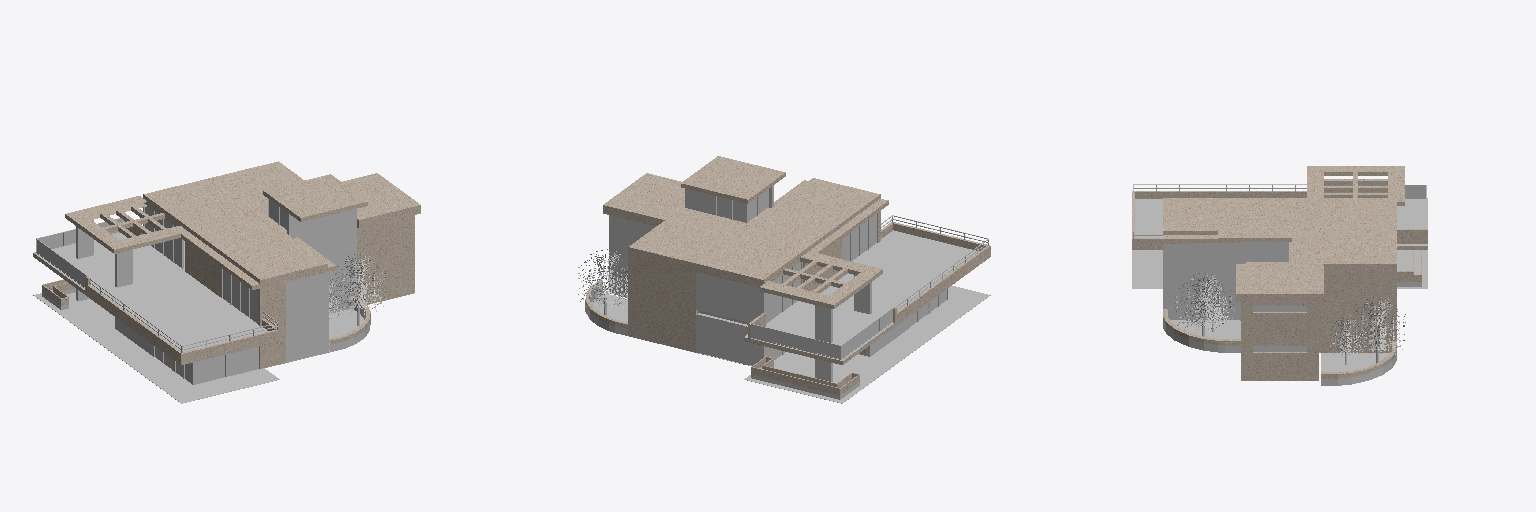
3 renders of one model, left to right at view 1: azimuth 30°, elevation 25°; view 2: azimuth 150°, elevation 25°; view 3: azimuth 270°, elevation 25°, orthographic.
Parts seen in each view (by area): view 1: copertura, parete_interna, pavimento_terrazza, RIVESTIMENTO, pavimento_esterno, vetro, pergola, cromato, pilastri, pannello_par, foglie, prato; view 2: copertura, vetro, pavimento_terrazza, parete_interna, pavimento_esterno, pergola, RIVESTIMENTO, cromato, pannello_par, pilastri, foglie; view 3: copertura, parete_interna, vetro, pergola, foglie, pavimento_terrazza, pavimento_esterno, RIVESTIMENTO, prato, cromato.
Part boxes in pixels (left/top/right/bottom): copertura: left=143, top=161, right=420, bottom=289; parete_interna: left=33, top=215, right=414, bottom=371; pavimento_terrazza: left=34, top=233, right=267, bottom=351; RIVESTIMENTO: left=42, top=209, right=370, bottom=362; pavimento_esterno: left=33, top=292, right=279, bottom=403; vetro: left=145, top=199, right=286, bottom=384; pergola: left=65, top=196, right=187, bottom=253; cromato: left=36, top=199, right=279, bottom=384; pilastri: left=76, top=220, right=132, bottom=301; pannello_par: left=37, top=219, right=124, bottom=286; foglie: left=329, top=254, right=385, bottom=320; prato: left=329, top=309, right=368, bottom=351; copertura: left=603, top=156, right=888, bottom=352; vetro: left=686, top=189, right=946, bottom=365; pavimento_terrazza: left=745, top=230, right=978, bottom=360; parete_interna: left=585, top=211, right=990, bottom=395; pavimento_esterno: left=744, top=286, right=990, bottom=403; pergola: left=760, top=251, right=882, bottom=308; RIVESTIMENTO: left=585, top=186, right=908, bottom=399; cromato: left=685, top=189, right=988, bottom=364; pannello_par: left=752, top=310, right=891, bottom=358; pilastri: left=815, top=275, right=871, bottom=381; foglie: left=578, top=249, right=627, bottom=310; copertura: left=1163, top=198, right=1396, bottom=301; parete_interna: left=1132, top=191, right=1427, bottom=380; vetro: left=1169, top=242, right=1305, bottom=350; pergola: left=1307, top=166, right=1404, bottom=205; foglie: left=1175, top=273, right=1405, bottom=357; pavimento_terrazza: left=1135, top=198, right=1427, bottom=245; pavimento_esterno: left=1132, top=250, right=1427, bottom=288; RIVESTIMENTO: left=1163, top=242, right=1421, bottom=385; prato: left=1164, top=321, right=1392, bottom=385; cromato: left=1133, top=184, right=1426, bottom=351.
Bounding box in the file's own units: 22 × 8.13 × 19.
20 materials, 1 textured.